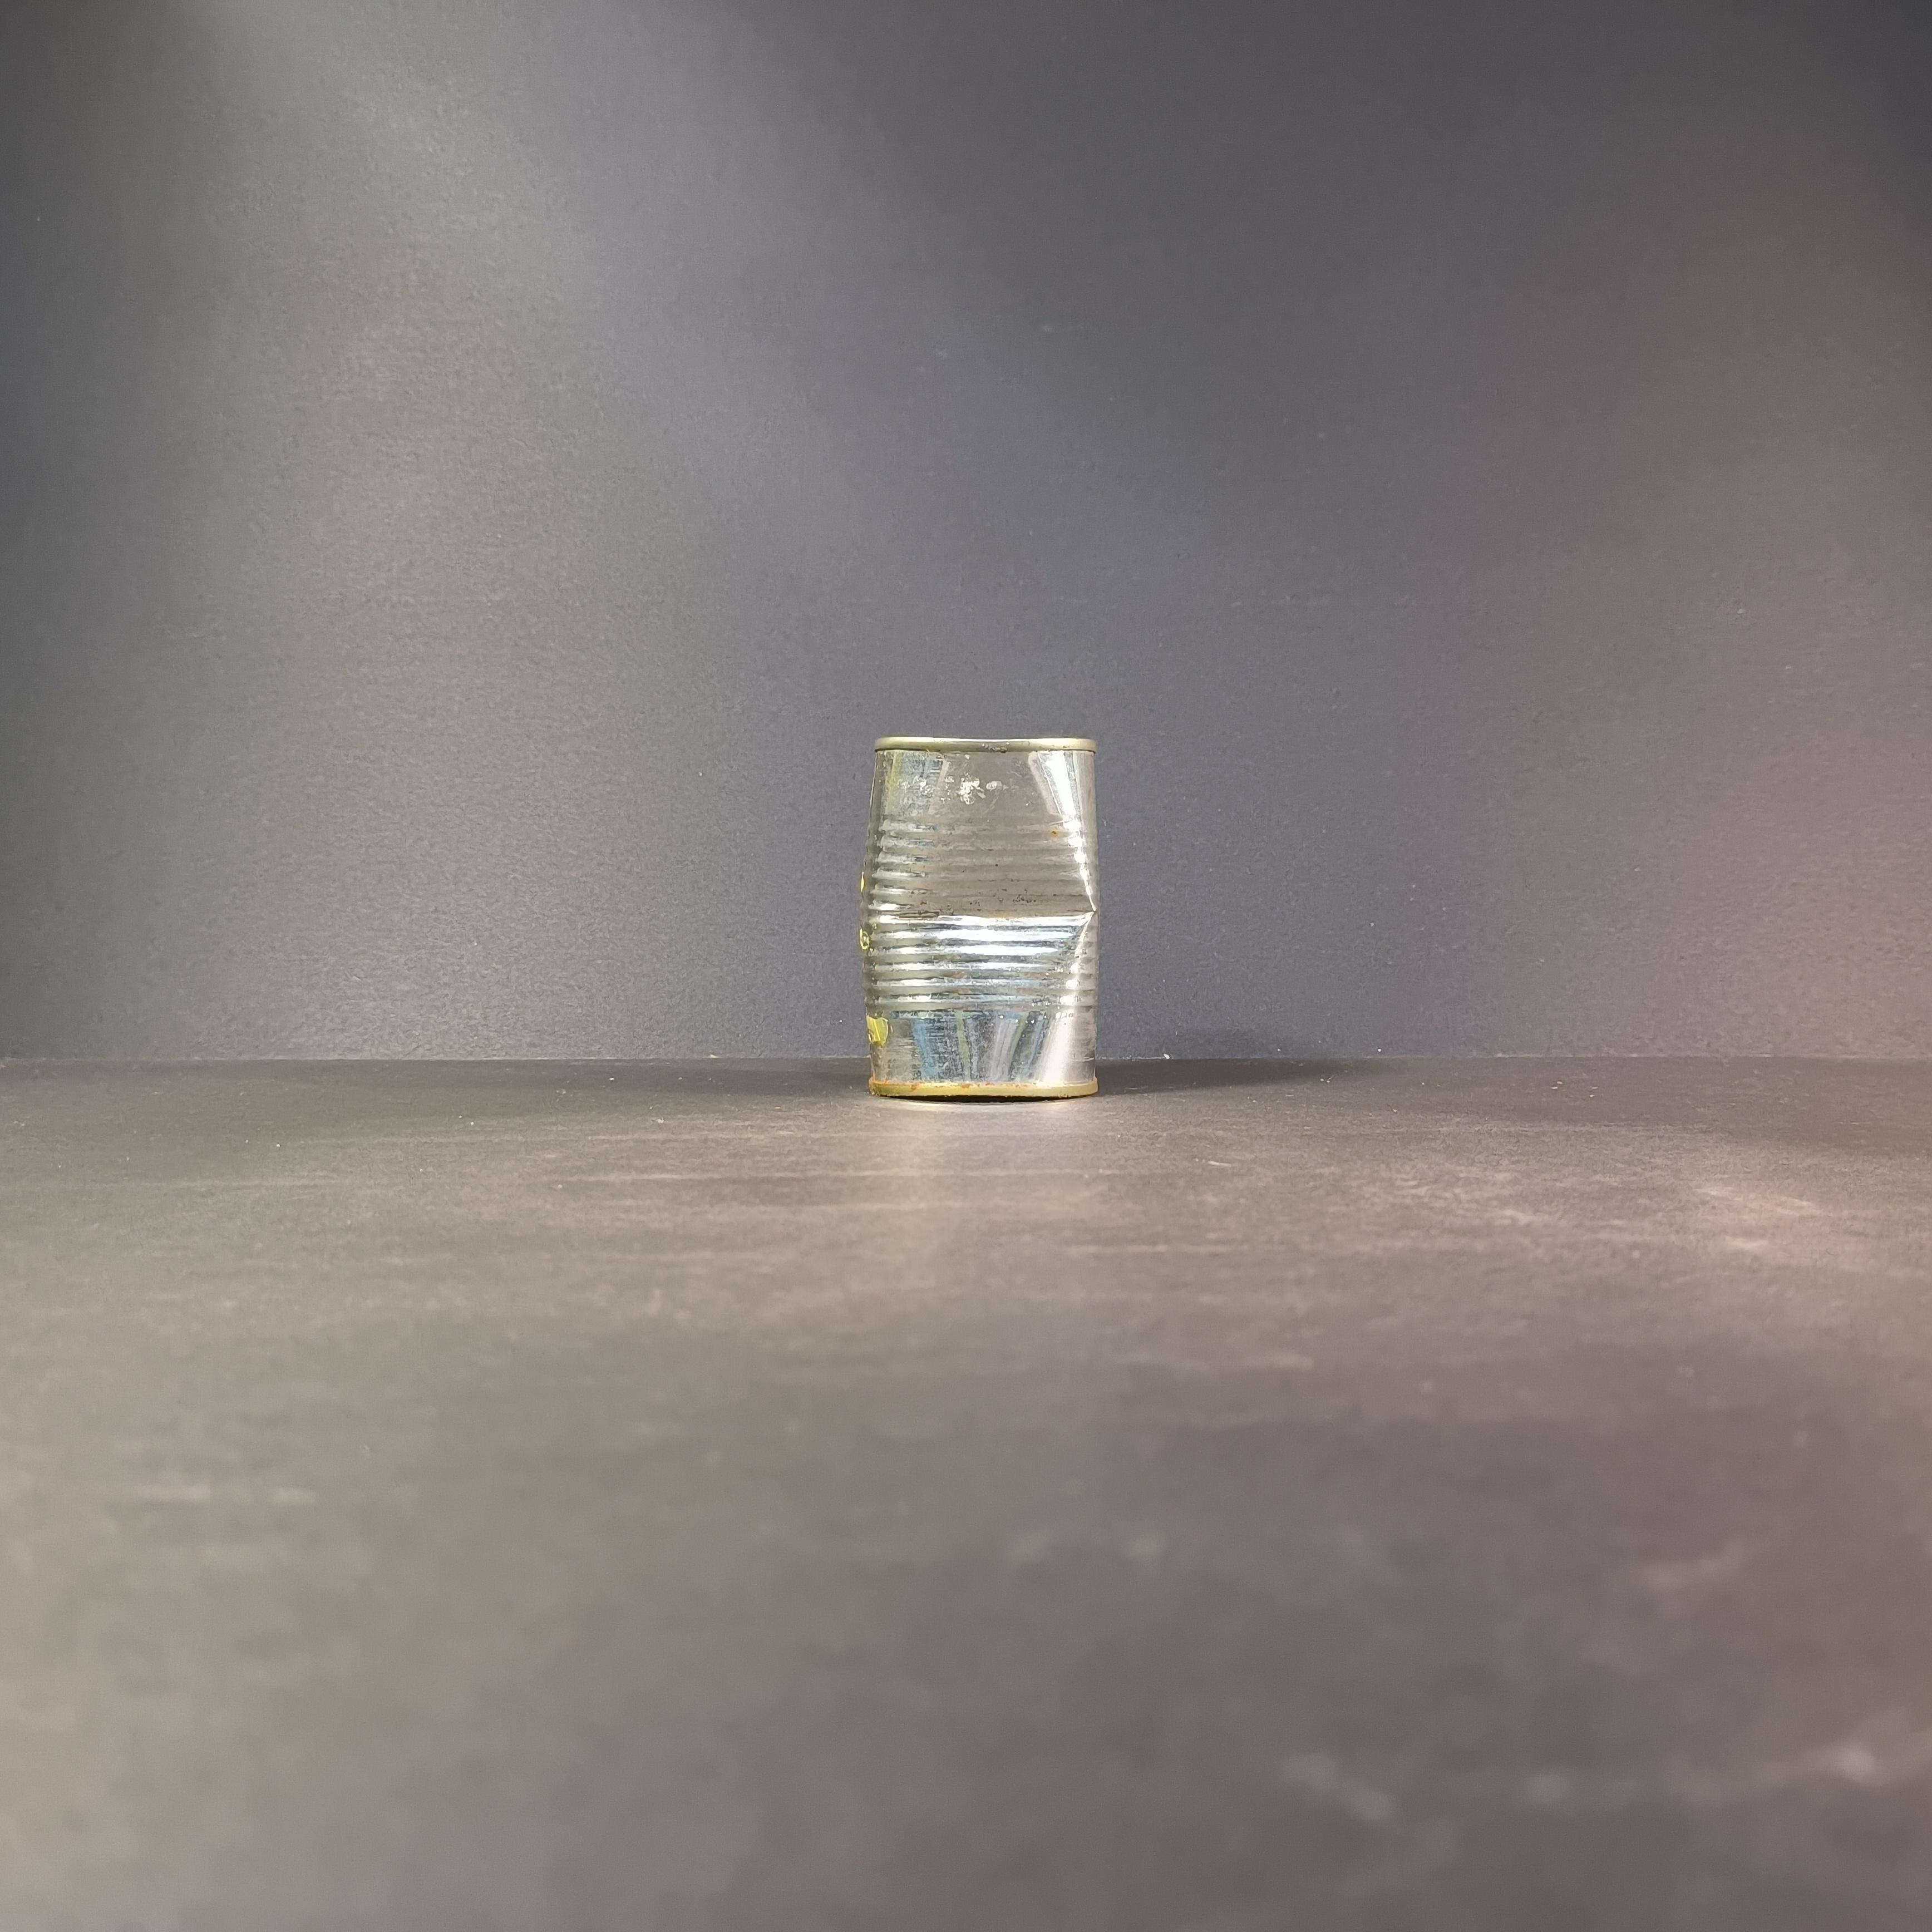Dented: (837, 695, 1127, 1136)
